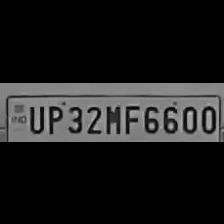0: (178, 102, 198, 134), (198, 102, 216, 134)
2: (83, 102, 101, 134)
3: (64, 100, 82, 134)
6: (140, 102, 160, 134), (160, 102, 178, 134)
F: (122, 101, 140, 135)
M: (103, 100, 121, 134)
P: (44, 101, 62, 135)
U: (24, 102, 43, 134)
